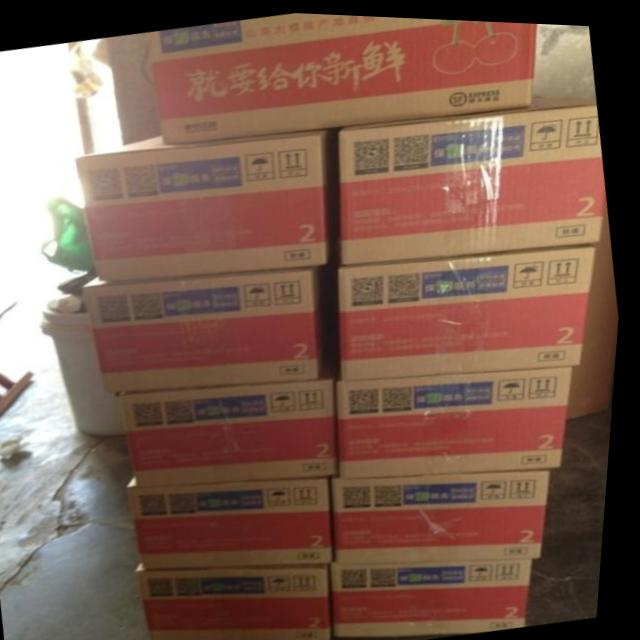box: (147, 10, 536, 145), (339, 90, 608, 263), (79, 126, 330, 279), (341, 237, 600, 377), (89, 262, 331, 391), (121, 359, 344, 482), (342, 360, 578, 474), (338, 463, 558, 561), (135, 472, 339, 566), (340, 554, 541, 633), (145, 561, 341, 640), (573, 188, 623, 414), (105, 31, 163, 144)
